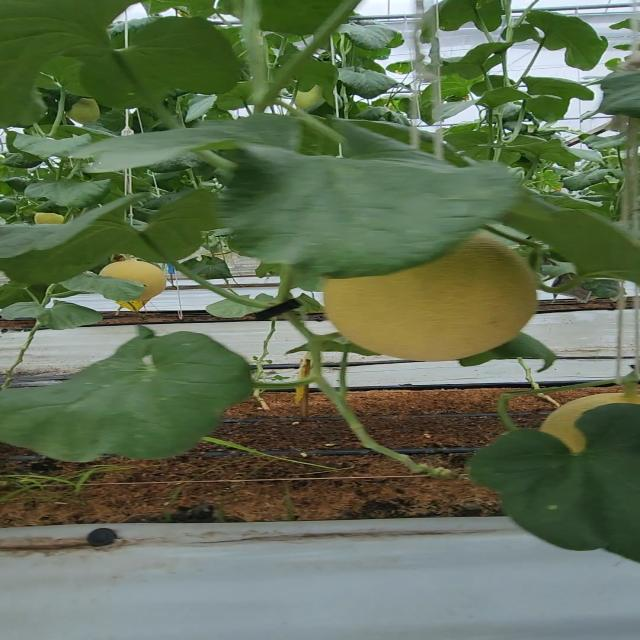Front-melon: (326, 278, 540, 359)
